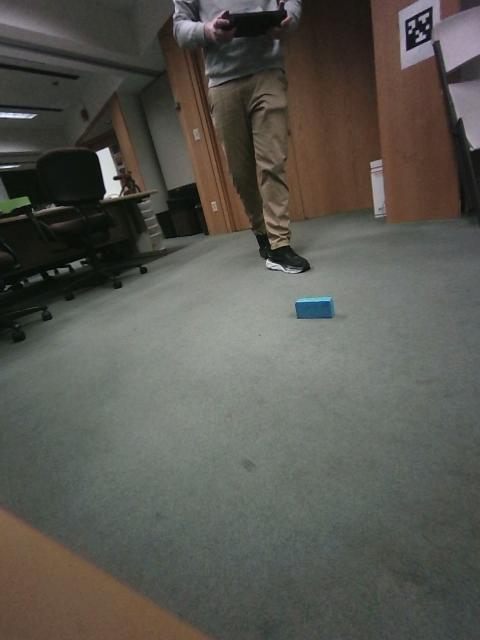block: (286, 349, 355, 406)
